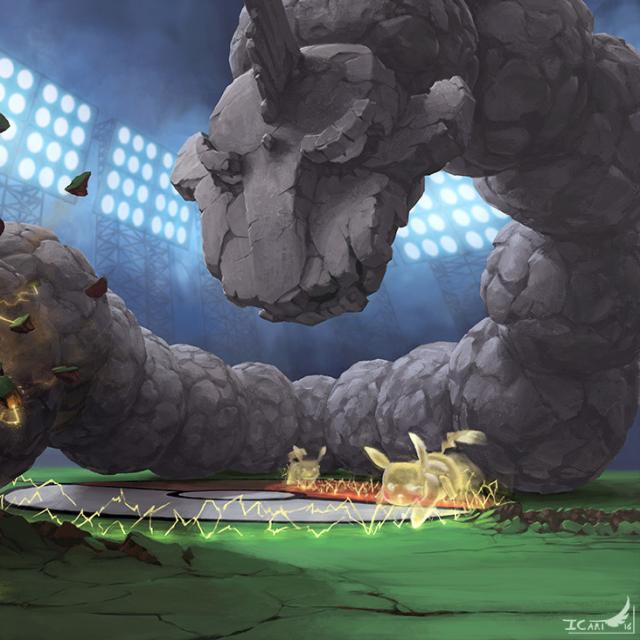Onix: (154, 4, 636, 469)
